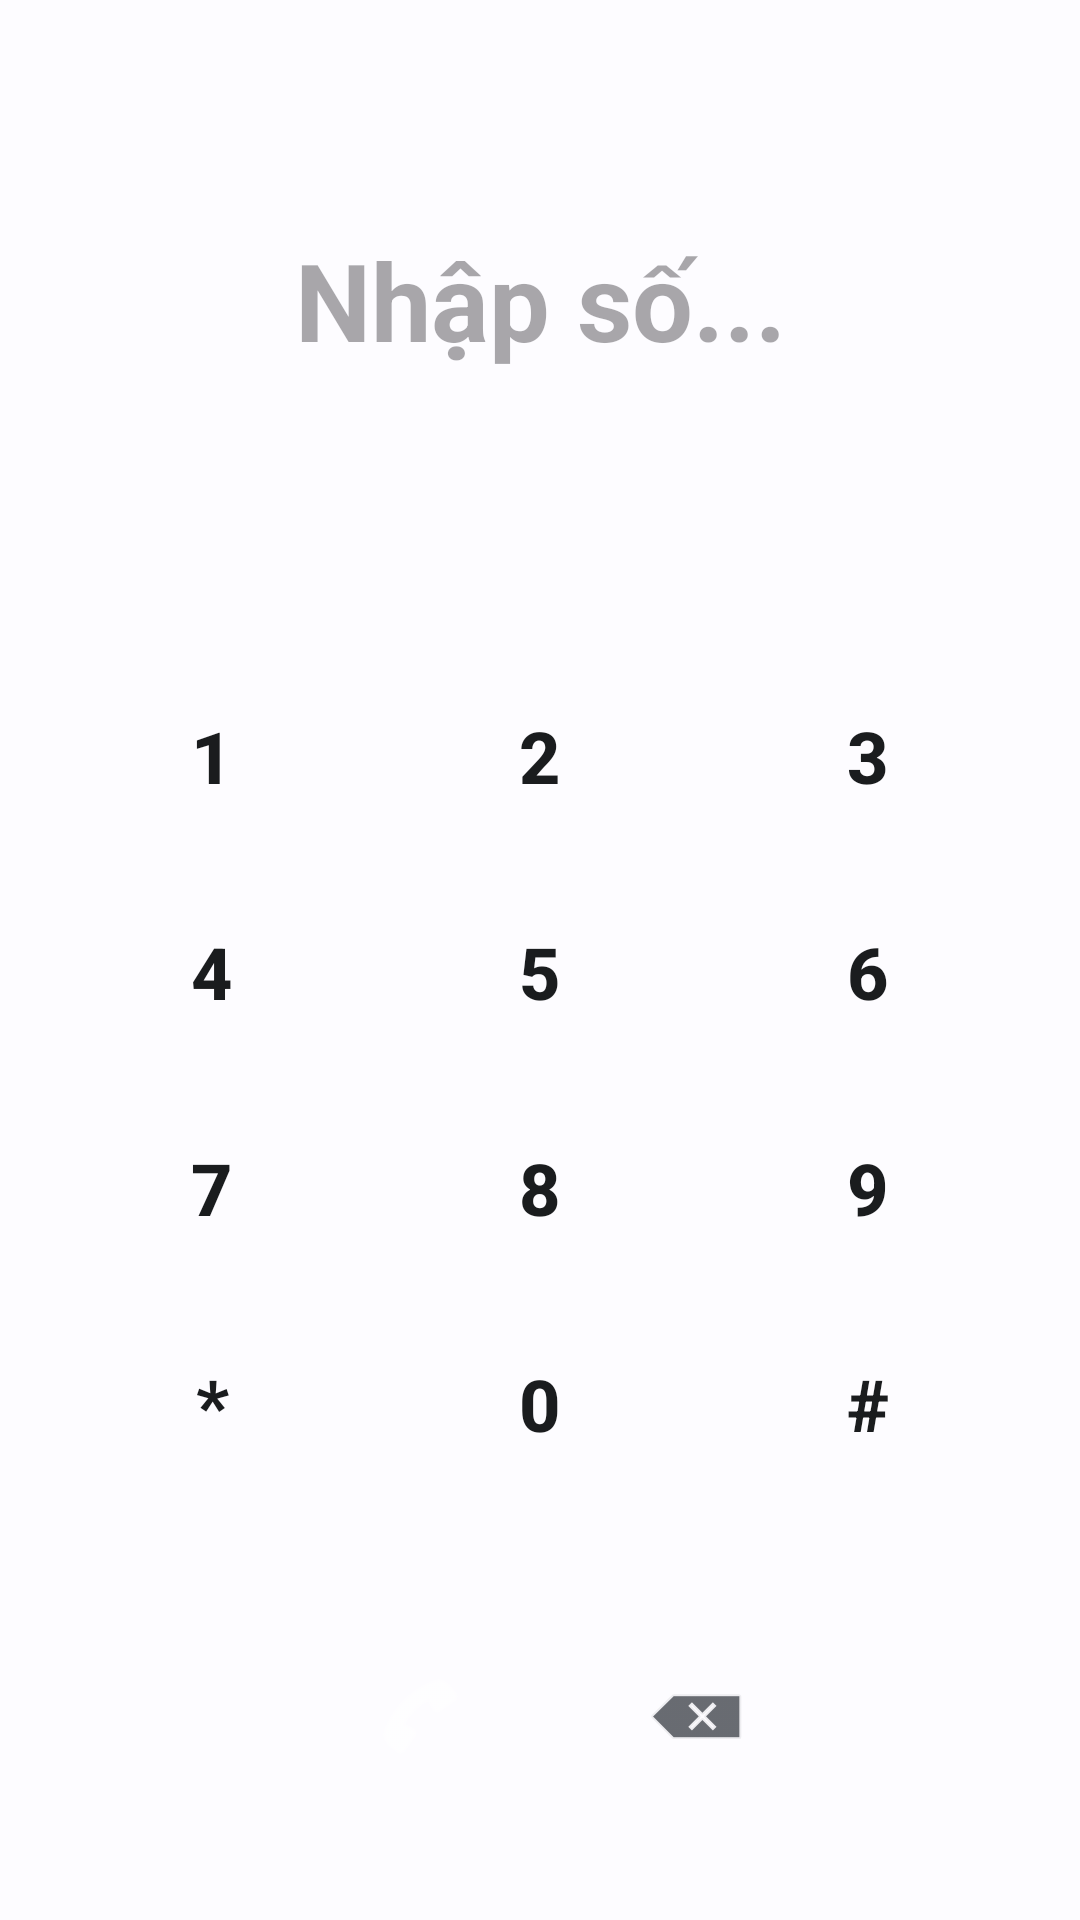

Screen size 1080x1920. Icon name, then its box in pixels as (x1, y1, x2, y2):
delete: (653, 1696, 740, 1738)
